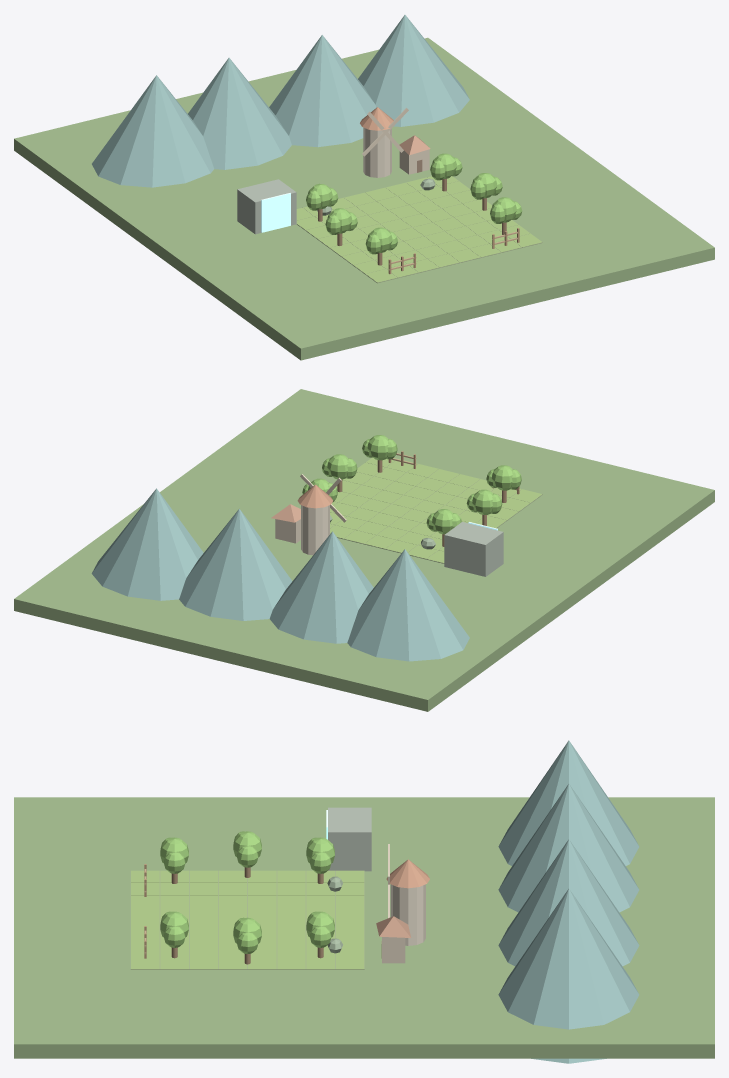
File: 01_Meadow.glb
3 views of the same model, one above another, from view 1: azimuth 30°, elevation 25°; view 2: azimuth 150°, elevation 25°; view 3: azimuth 270°, elevation 25° (orthographic). The views are drawn at different scales.
Parts seen in each view (by area): view 1: surrounding_terrain, mountain (×4), cliff_waterfall, windmill_102, Arena_Base, waterfall, cottage_106; view 2: surrounding_terrain, mountain (×4), cliff_waterfall, windmill_102, Arena_Base, windmill_103, cottage_106; view 3: surrounding_terrain, mountain (×4), cliff_waterfall, windmill_102, Arena_Base, windmill_103, cottage_106, cottage_107.
Boxes of the visible parts, bbox=[...] form: surrounding_terrain: bbox=[14, 37, 714, 360]; mountain (×4): bbox=[92, 15, 469, 187]; cliff_waterfall: bbox=[237, 179, 296, 234]; windmill_102: bbox=[363, 127, 391, 177]; Arena_Base: bbox=[297, 177, 542, 283]; waterfall: bbox=[261, 193, 290, 232]; cottage_106: bbox=[399, 149, 429, 174]; surrounding_terrain: bbox=[14, 389, 714, 711]; mountain (×4): bbox=[91, 488, 469, 661]; cliff_waterfall: bbox=[444, 522, 503, 576]; windmill_102: bbox=[301, 505, 329, 555]; Arena_Base: bbox=[330, 461, 542, 563]; windmill_103: bbox=[297, 484, 333, 508]; cottage_106: bbox=[275, 519, 300, 543]; surrounding_terrain: bbox=[14, 797, 714, 1058]; mountain (×4): bbox=[498, 740, 639, 1063]; cliff_waterfall: bbox=[328, 807, 371, 871]; windmill_102: bbox=[390, 884, 425, 945]; Arena_Base: bbox=[130, 870, 364, 969]; windmill_103: bbox=[386, 859, 429, 888]; cottage_106: bbox=[382, 937, 405, 963]; cottage_107: bbox=[376, 916, 410, 937].
Bounding box in the file's own units: 40 × 10 × 48.
